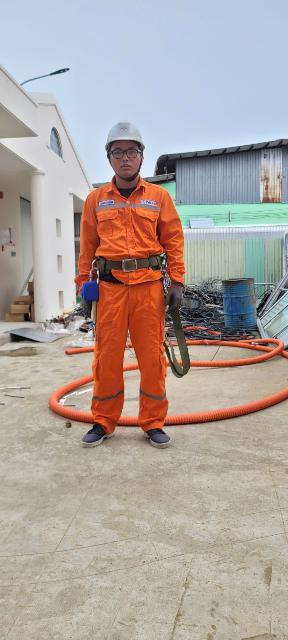gloves: (64, 283, 99, 328), (161, 282, 193, 312)
harness: (72, 247, 171, 274)
helmet: (93, 116, 158, 160)
shoes: (64, 413, 117, 444), (138, 415, 183, 451)
